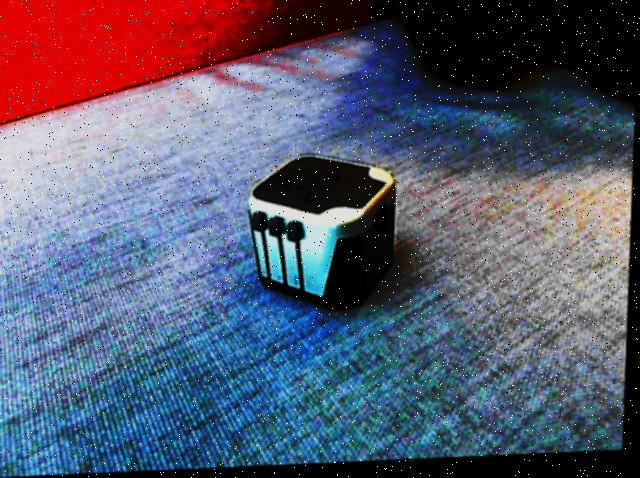adapter: (246, 154, 400, 317)
